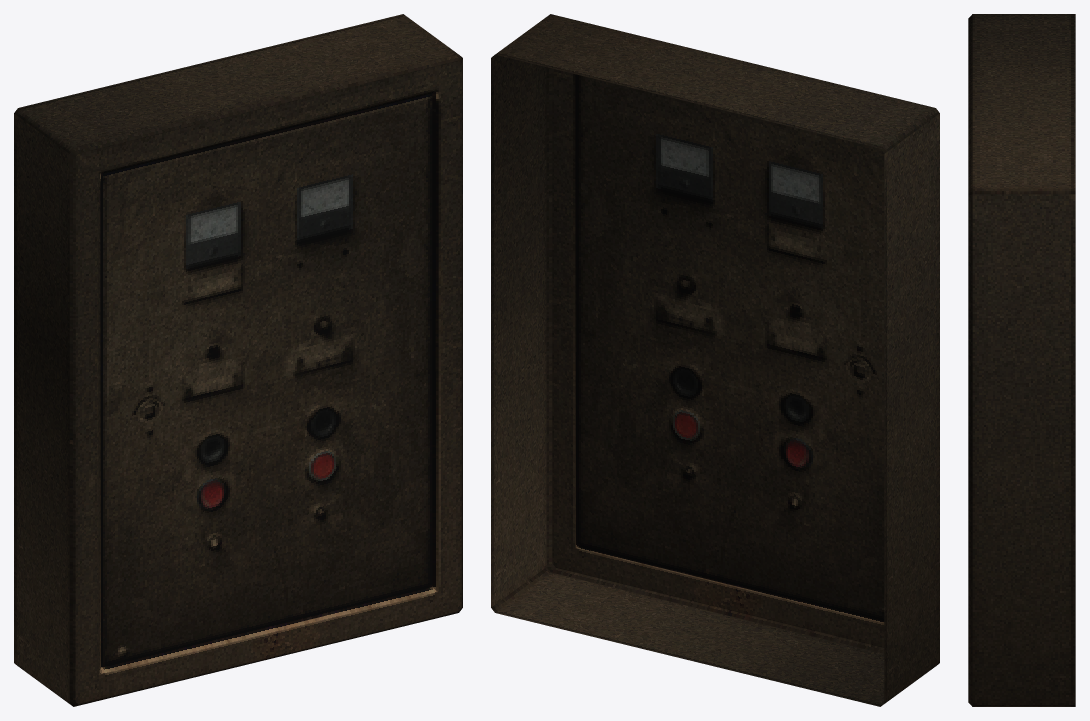
Rendered from wall_box_3.glb.
The picture shows the model from 3 angles, left to right: view 1: azimuth 30°, elevation 25°; view 2: azimuth 150°, elevation 25°; view 3: azimuth 270°, elevation 25°; orthographic projection. The views are drawn at different scales.
Parts seen in each view (by area): view 1: wall_box_3; view 2: wall_box_3; view 3: wall_box_3.
Boxes of the visible parts, x1,y1,x2,y2 form: wall_box_3: (14,14,462,706); wall_box_3: (491,14,939,706); wall_box_3: (968,14,1075,706).
Bounding box in the file's own units: 0.5892 × 0.7992 × 0.15.
Materials: 1 (1 with a texture image).
